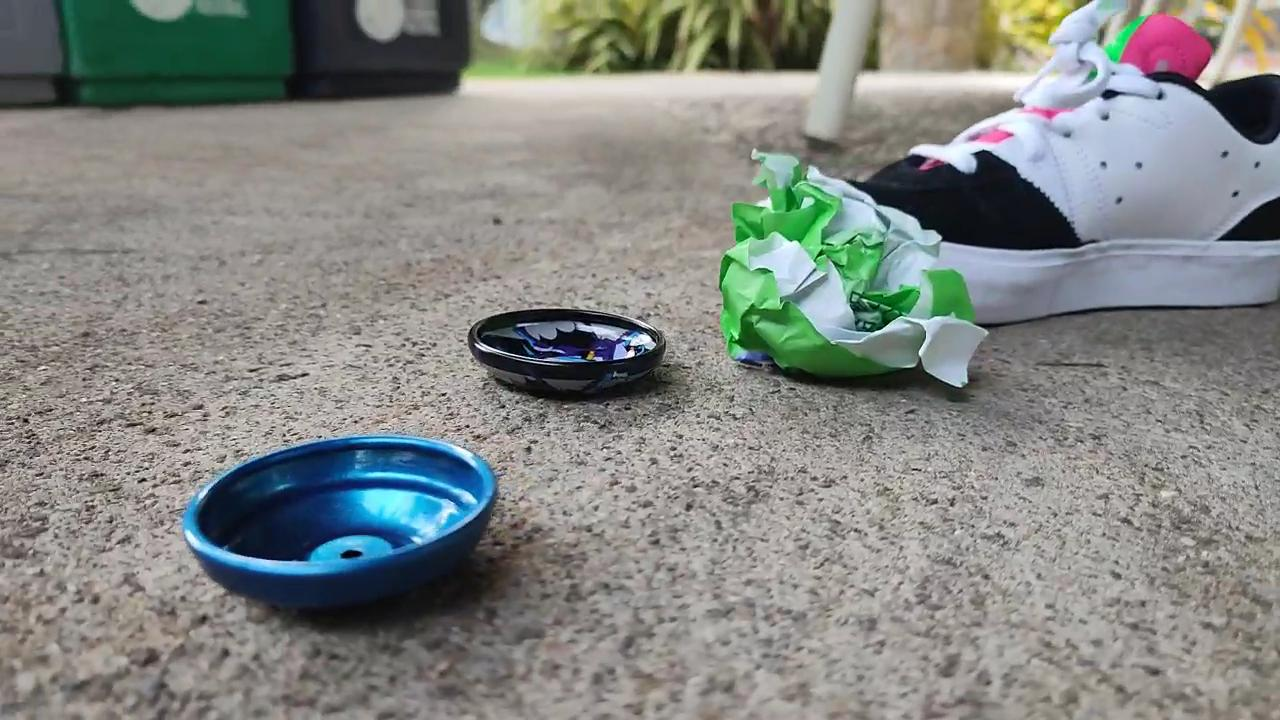Paper: (706, 137, 1001, 408)
